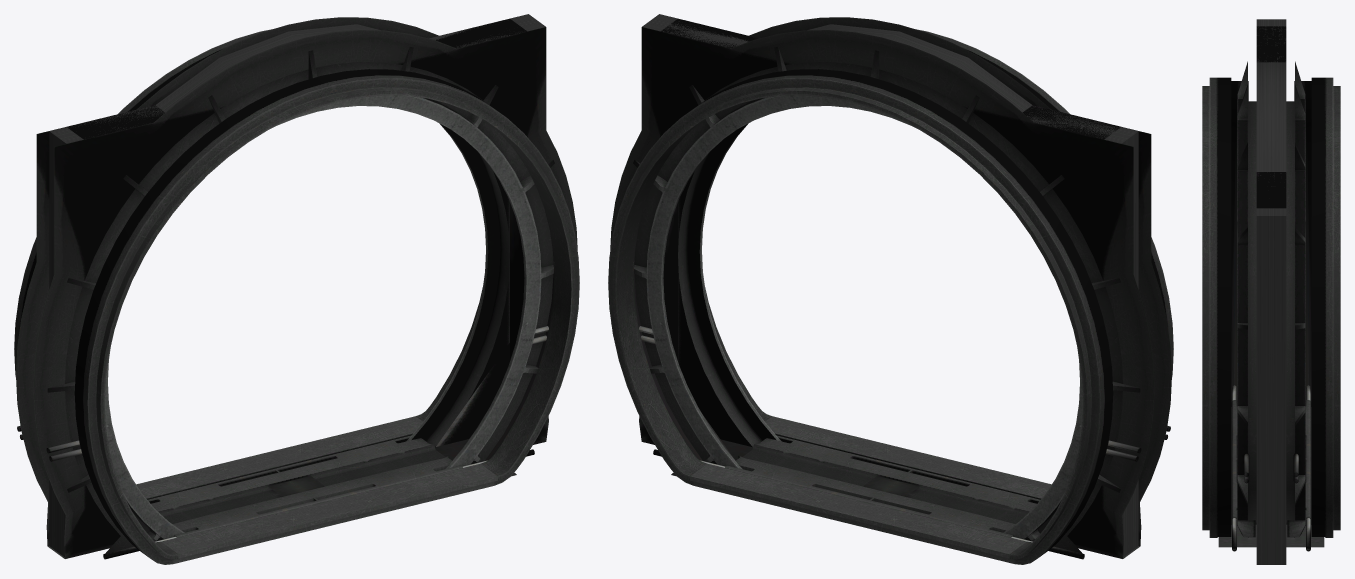
The model's file is portal_door_withoutDoor.obj.
The picture shows the model from 3 angles, left to right: view 1: azimuth 30°, elevation 25°; view 2: azimuth 150°, elevation 25°; view 3: azimuth 270°, elevation 25°; orthographic projection. The views are drawn at different scales.
Parts seen in each view (by area): view 1: portal_door; view 2: portal_door; view 3: portal_door.
Boxes of the visible parts, x1,y1,x2,y2 form: portal_door: (14,14,579,564); portal_door: (608,14,1173,564); portal_door: (1202,19,1340,564).
Bounding box in the file's own units: 141 × 116 × 36.84.
Materials: 1 (1 with a texture image).
